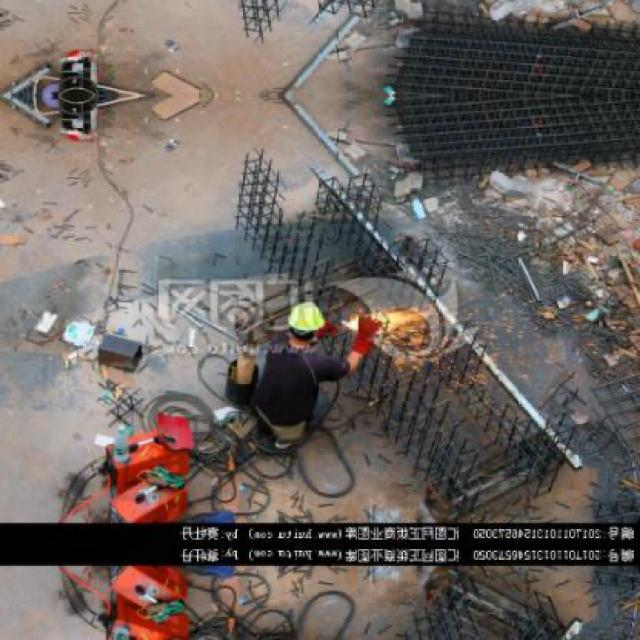con casco: (252, 294, 351, 377)
